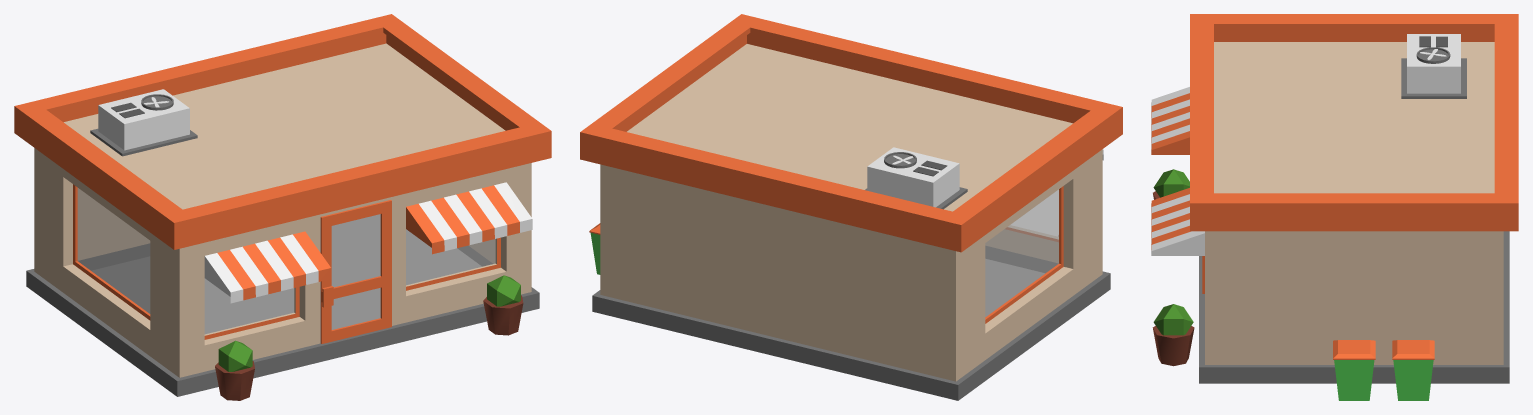
File: Edificio4.fbx
3 renders of one model, left to right at view 1: azimuth 30°, elevation 25°; view 2: azimuth 150°, elevation 25°; view 3: azimuth 270°, elevation 25°, orthographic. The views are drawn at different scales.
Visible parts, largest first — view 1: Object_62, Object_60, Object_61, Object_63, Object_36, Object_5, Object_104, Object_98, Object_89, Object_79, Object_20, Object_86 (+2 smaller); view 2: Object_62, Object_60, Object_61, Object_63, Object_98; view 3: Object_62, Object_60, Object_61, Object_36, Object_98, Object_5, Object_57, Object_72, Object_79, Object_82, Object_54, Object_75 (+3 smaller).
Part boxes in pixels (bbox=[...]): Object_62: bbox=[34, 43, 531, 377]; Object_60: bbox=[14, 14, 551, 339]; Object_61: bbox=[26, 214, 539, 396]; Object_63: bbox=[77, 188, 495, 342]; Object_36: bbox=[406, 182, 532, 254]; Object_5: bbox=[217, 231, 331, 300]; Object_104: bbox=[320, 200, 391, 343]; Object_98: bbox=[98, 89, 189, 150]; Object_89: bbox=[215, 361, 254, 400]; Object_79: bbox=[483, 295, 523, 335]; Object_20: bbox=[204, 253, 243, 303]; Object_86: bbox=[218, 340, 252, 371]; Object_62: bbox=[600, 44, 1102, 381]; Object_60: bbox=[580, 14, 1122, 323]; Object_61: bbox=[592, 246, 1110, 400]; Object_63: bbox=[985, 189, 1058, 316]; Object_98: bbox=[867, 147, 959, 207]; Object_62: bbox=[1205, 42, 1503, 364]; Object_60: bbox=[1190, 14, 1518, 231]; Object_61: bbox=[1199, 231, 1509, 383]; Object_36: bbox=[1151, 188, 1204, 255]; Object_98: bbox=[1407, 34, 1460, 93]; Object_5: bbox=[1151, 93, 1189, 154]; Object_57: bbox=[1393, 360, 1433, 400]; Object_72: bbox=[1334, 360, 1374, 400]; Object_79: bbox=[1152, 326, 1194, 366]; Object_82: bbox=[1153, 304, 1193, 335]; Object_54: bbox=[1392, 340, 1434, 359]; Object_75: bbox=[1333, 340, 1375, 359].
Size of the model in its own units: 8132 by 3599 by 6146.
